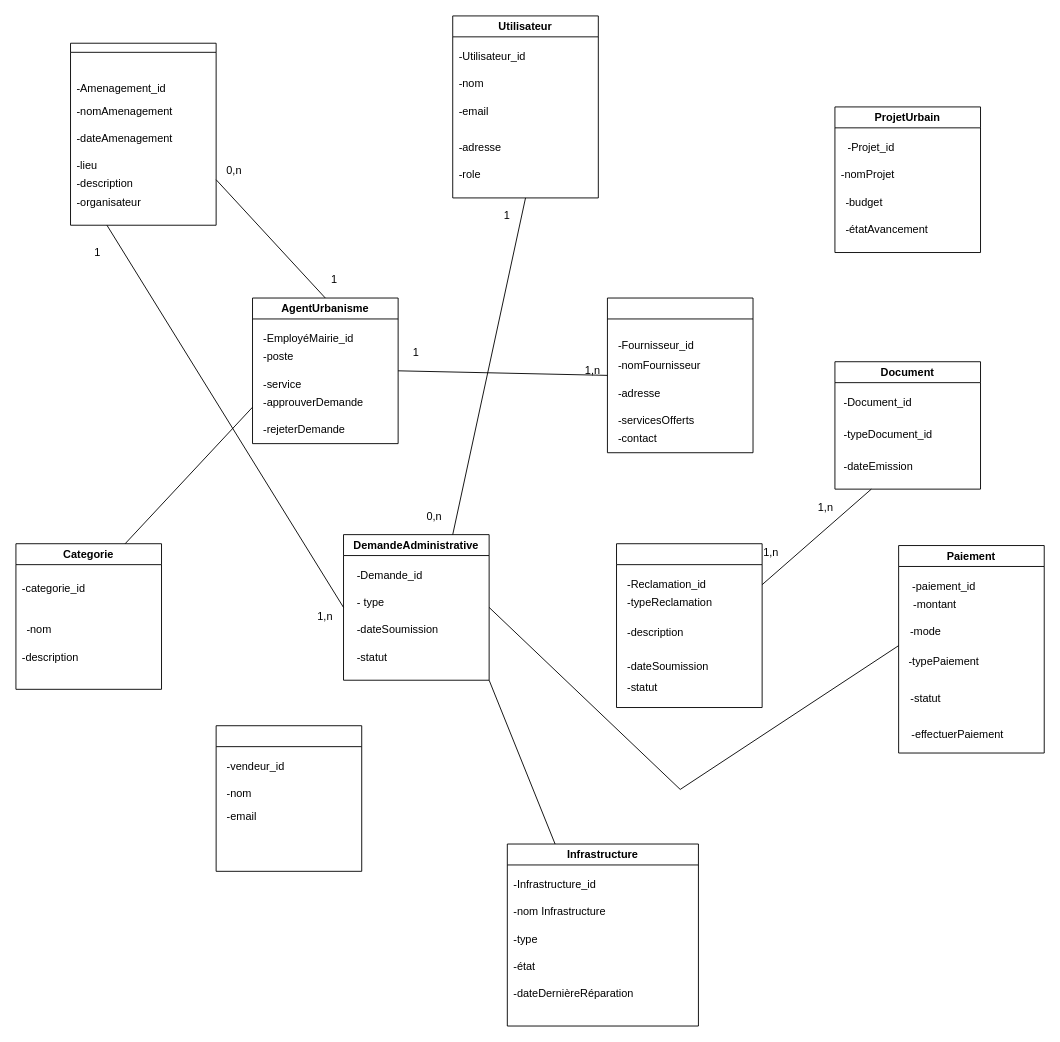
This 1060x1042 diagram has some shape labels left out. Each missing label, with the box of its shape:
BudgetCommunal: (215, 725, 362, 871)
livraison: (607, 297, 753, 453)
ProjetAmenagement: (70, 42, 216, 225)
Réclamation: (616, 543, 762, 708)
